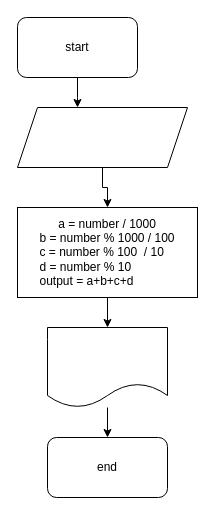
Image size: 215x515. Some labels were removed from this diagram. Here are the shapes that lost their labels. From the top down, the centre of each, then its label:
At pixel 102 137: "int number,a,b,c,d,output".
At pixel 107 367: "output".
